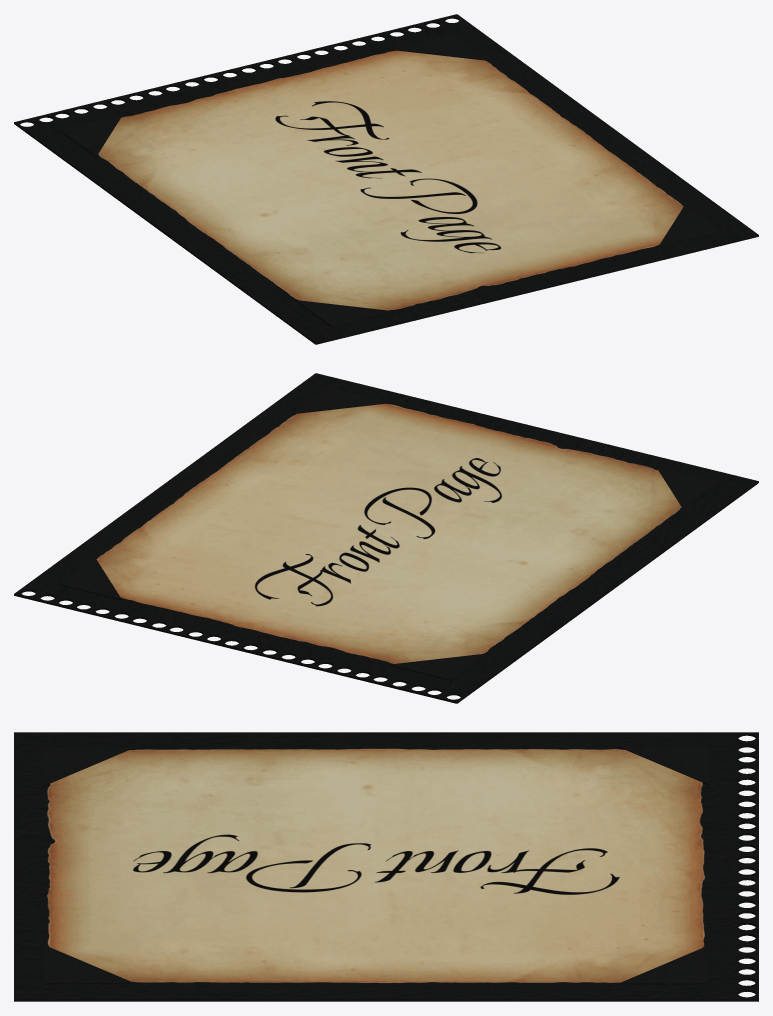
Rendered from mdl_Robin_ScrapbookPage.gltf.
The picture shows the model from 3 angles, top to bottom: view 1: azimuth 30°, elevation 25°; view 2: azimuth 150°, elevation 25°; view 3: azimuth 270°, elevation 25°; orthographic projection. The views are drawn at different scales.
Parts seen in each view (by area): view 1: Plane.001, Cube.001, Plane.003, Cube.004, Cube.002, Cube.005, Cube.003; view 2: Plane.001, Cube.001, Plane.003, Cube.003, Cube.005, Cube.002, Cube.004; view 3: Plane.001, Cube.001, Plane.003, Cube.005, Cube.002, Cube.003, Cube.004.
Part boxes in pixels (x1=…): Plane.001: x1=98, y1=50, x2=683, y2=310; Cube.001: x1=14, y1=14, x2=758, y2=344; Plane.003: x1=275, y1=101, x2=501, y2=252; Cube.004: x1=296, y1=300, x2=395, y2=327; Cube.002: x1=390, y1=34, x2=489, y2=61; Cube.005: x1=658, y1=204, x2=721, y2=246; Cube.003: x1=60, y1=114, x2=122, y2=156; Plane.001: x1=96, y1=403, x2=681, y2=663; Cube.001: x1=14, y1=373, x2=758, y2=703; Plane.003: x1=255, y1=458, x2=501, y2=606; Cube.003: x1=389, y1=653, x2=488, y2=680; Cube.005: x1=291, y1=387, x2=390, y2=414; Cube.002: x1=59, y1=557, x2=121, y2=600; Cube.004: x1=656, y1=466, x2=719, y2=508; Plane.001: x1=47, y1=748, x2=704, y2=982; Cube.001: x1=14, y1=732, x2=758, y2=1001; Plane.003: x1=133, y1=834, x2=619, y2=894; Cube.005: x1=45, y1=945, x2=134, y2=984; Cube.002: x1=619, y1=945, x2=708, y2=984; Cube.003: x1=619, y1=746, x2=708, y2=785; Cube.004: x1=42, y1=748, x2=132, y2=786.
Bounding box in the file's own units: 0.2569 × 0.0024 × 0.303.
Materials: 4 (4 with a texture image).
